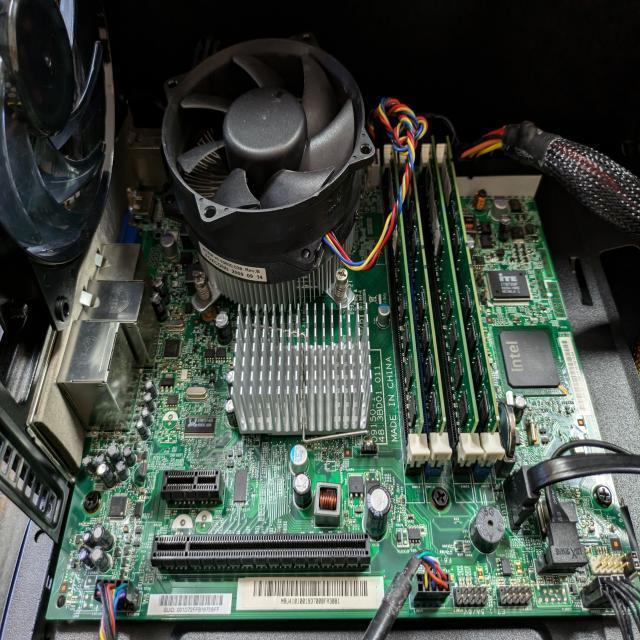CPU_Fan: (160, 29, 376, 320)
Mainboard: (43, 175, 640, 620)
RAM: (440, 138, 500, 434), (424, 136, 480, 432), (402, 170, 448, 434), (384, 144, 424, 436)
